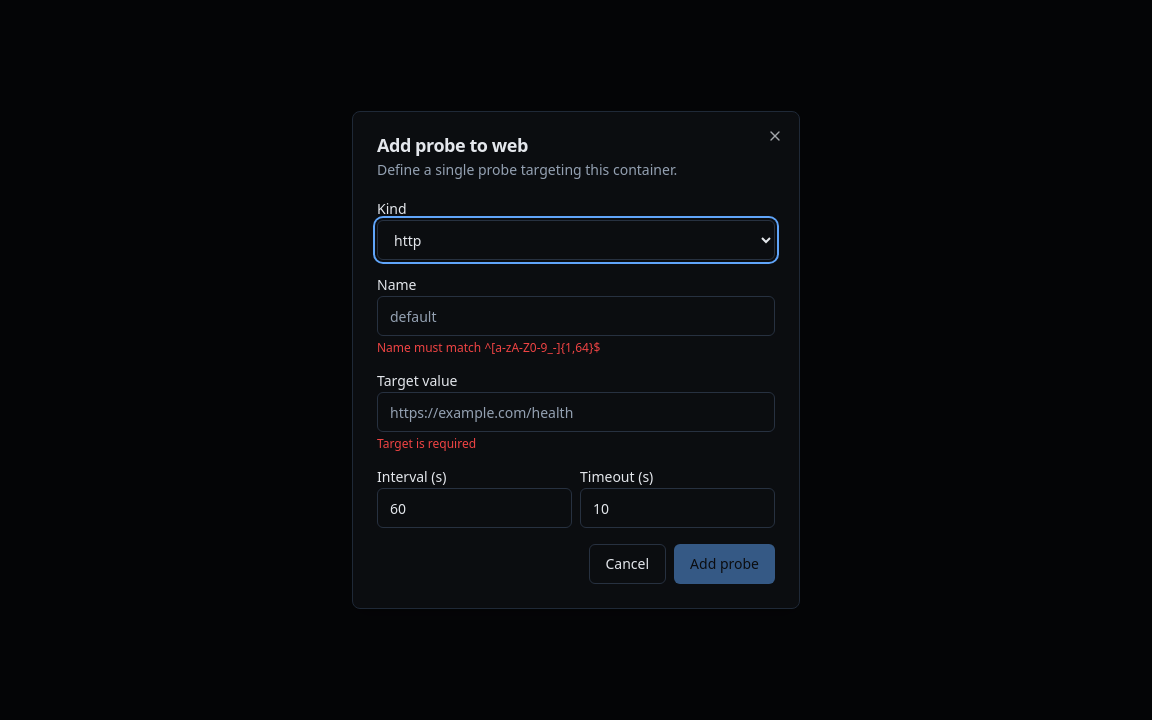
AddProbeModal › shows interval validation error when interval is out of range
Step 1. Type "healthz" into the field with test id "add-probe-name" → (576, 316), box [377,296,775,336]
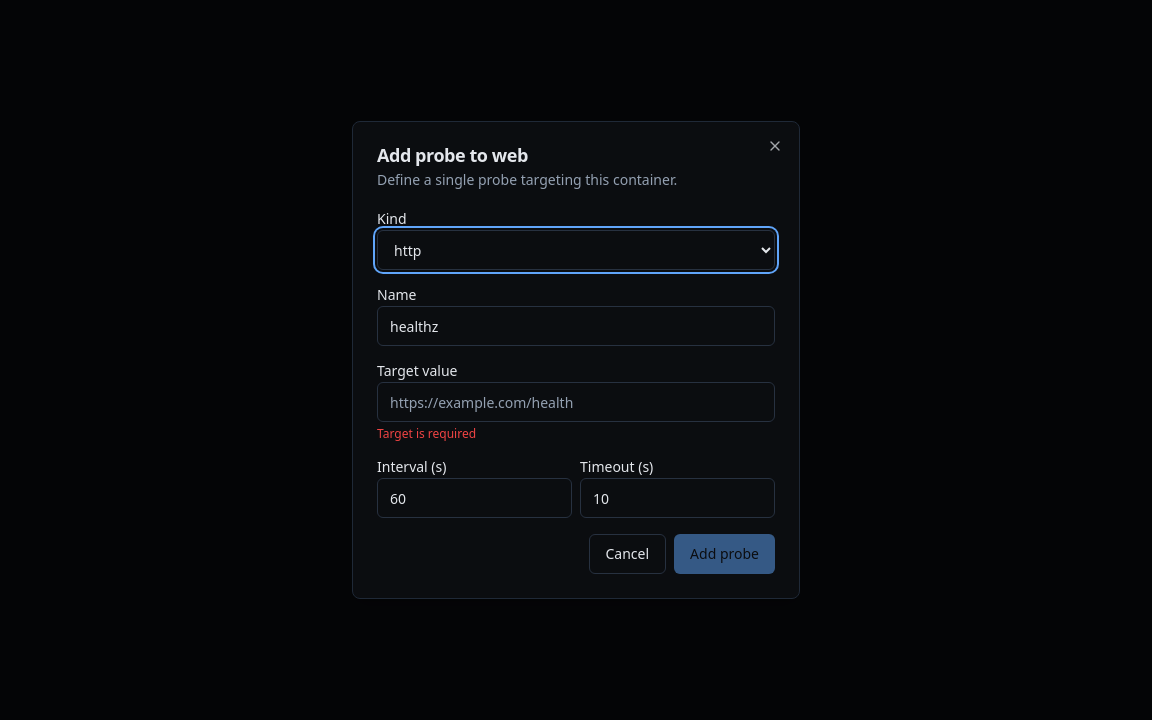
Step 2. Type "http://localhost" into the field with test id "add-probe-target" → (576, 402), box [377,382,775,422]
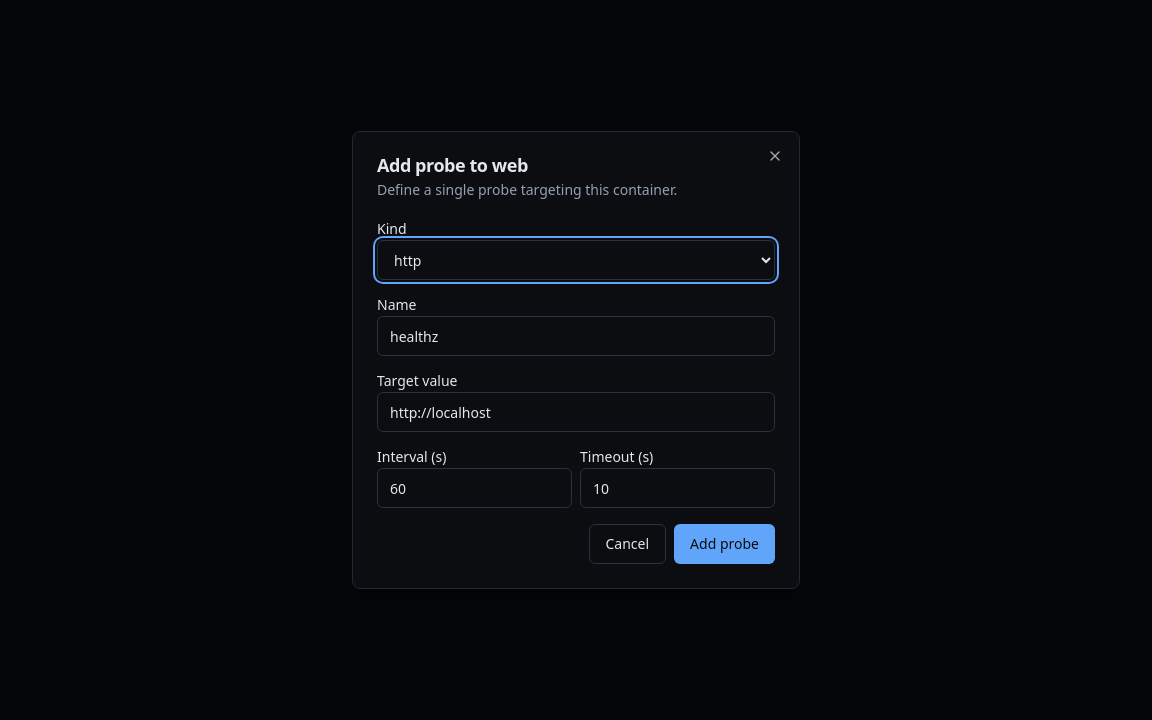
Step 3. Replace the text in the number field with test id "add-probe-interval" with "9999" → (474, 488), box [377,468,572,508]
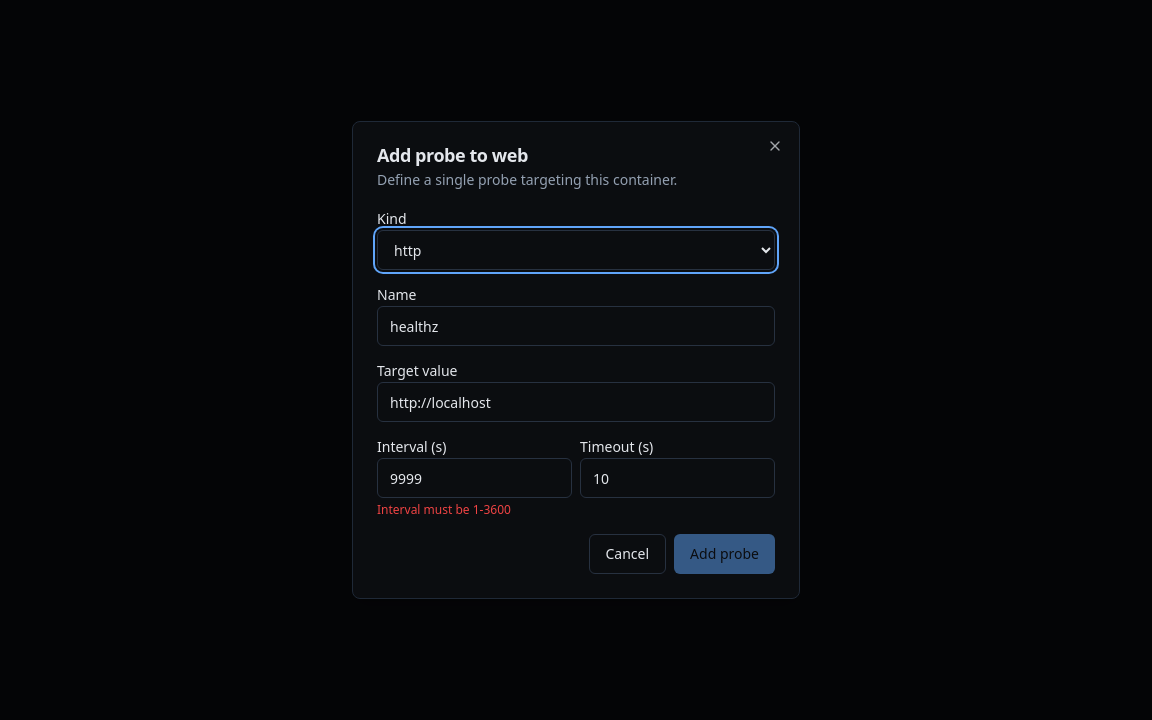
Check: the text "Interval must be 1-3600" is shown, box [377,501,511,518]
Check: the button with test id "add-probe-submit" is disabled, box [674,534,775,574]
